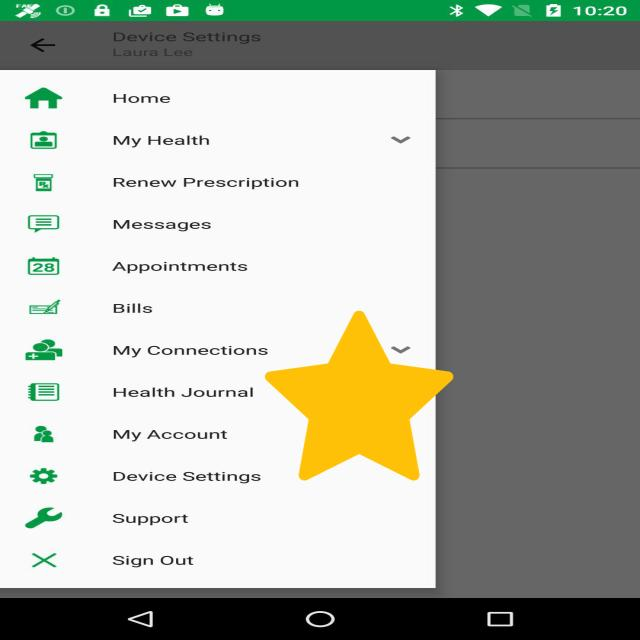forced continuity: (265, 310, 453, 480)
